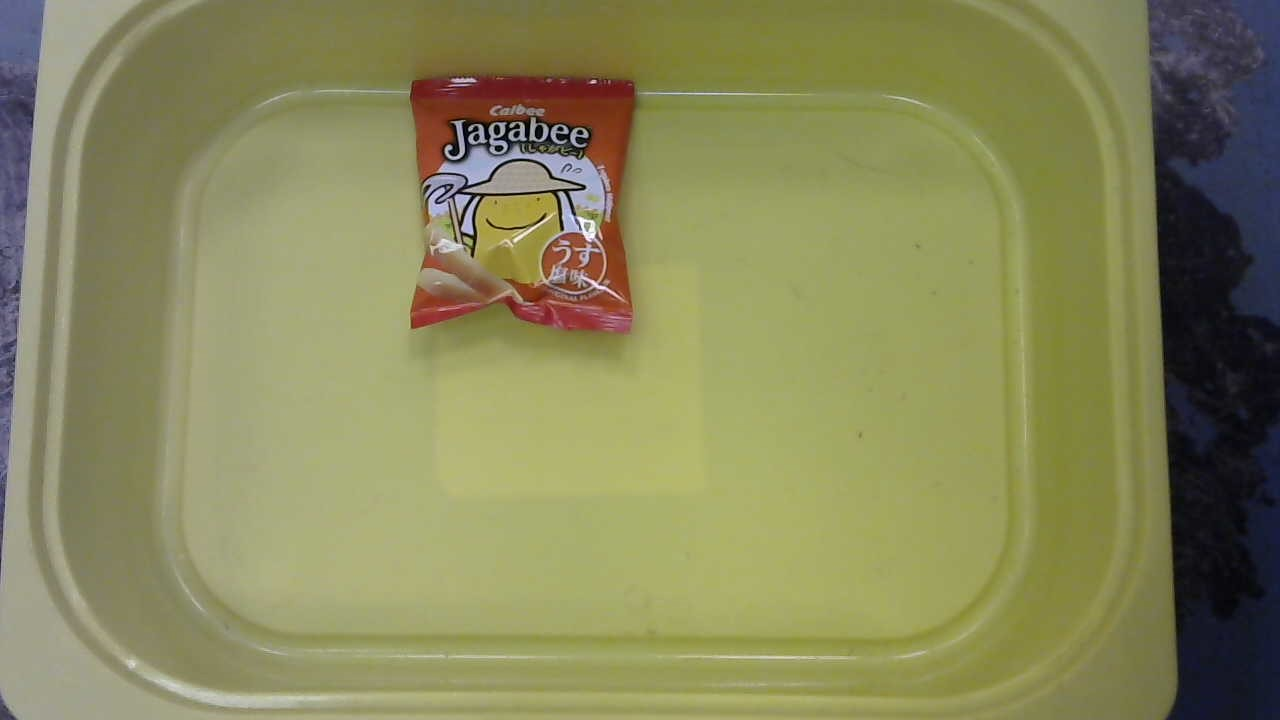JagabeeFarmer: (398, 69, 648, 341)
